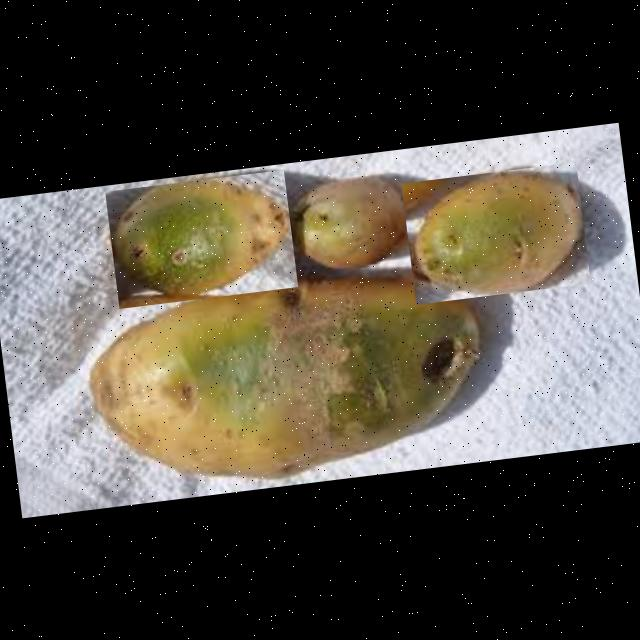Defected potato: (74, 257, 506, 499), (400, 162, 590, 304), (105, 170, 298, 308), (277, 166, 421, 276)
